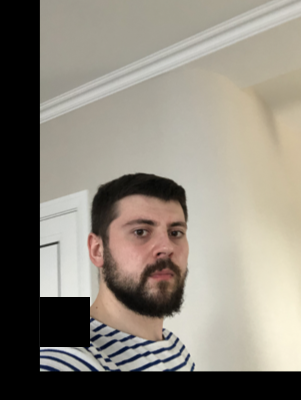without_mask: (115, 207, 188, 320)
